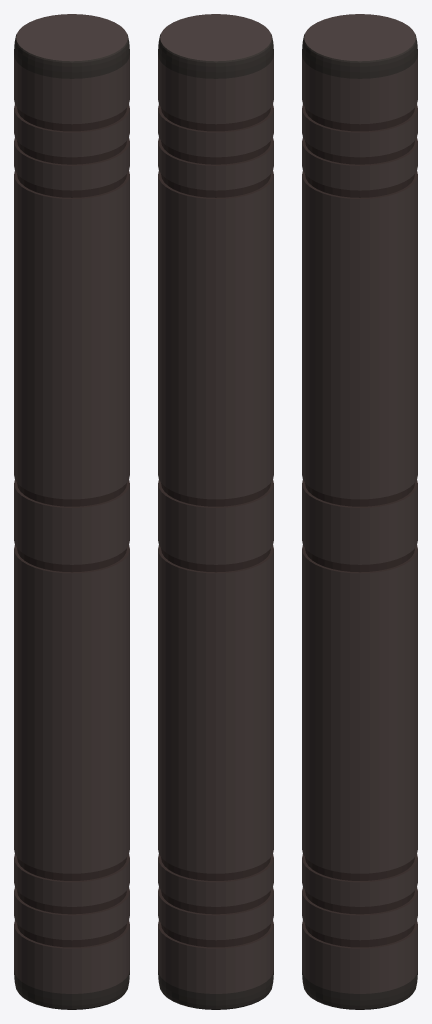
Rendered from Klangholz.fbx.
3 renders of one model, left to right at view 1: azimuth 90°, elevation 25°; view 2: azimuth 150°, elevation 25°; view 3: azimuth 270°, elevation 25°, orthographic.
Visible parts, largest first — view 1: Klangholz; view 2: Klangholz; view 3: Klangholz.
Boxes of the visible parts, left/top/right/bottom form: Klangholz: left=14, top=14, right=129, bottom=1009; Klangholz: left=158, top=14, right=273, bottom=1009; Klangholz: left=302, top=14, right=417, bottom=1009.
Size of the model in its own units: 3.75 by 33.89 by 3.75.
